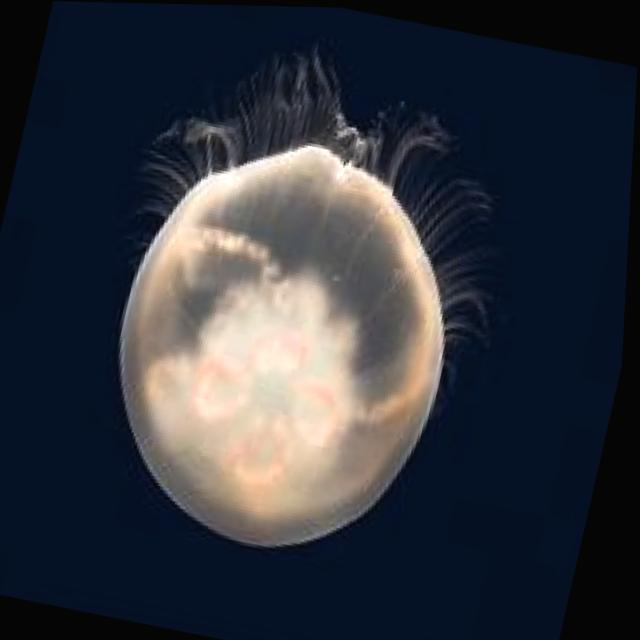Box-jellyfish: (62, 9, 551, 582)
